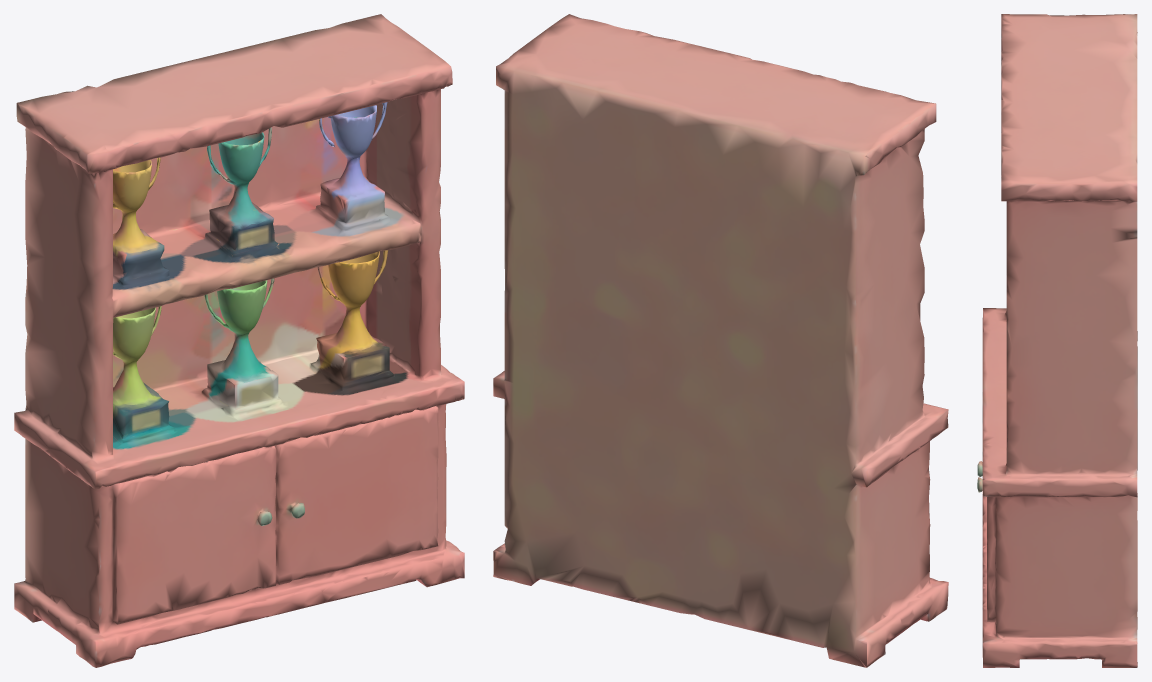
File: trophy_case.glb
The picture shows the model from 3 angles, left to right: view 1: azimuth 30°, elevation 25°; view 2: azimuth 150°, elevation 25°; view 3: azimuth 270°, elevation 25°; orthographic projection. The views are drawn at different scales.
Visible parts, largest first — view 1: model; view 2: model; view 3: model.
Boxes of the visible parts, x1=… form: model: x1=14, y1=14, x2=464, y2=667; model: x1=493, y1=14, x2=948, y2=667; model: x1=977, y1=14, x2=1137, y2=667.
Bounding box in the file's own units: 1.45 × 1.9 × 0.5709.
1 material, 1 textured.
